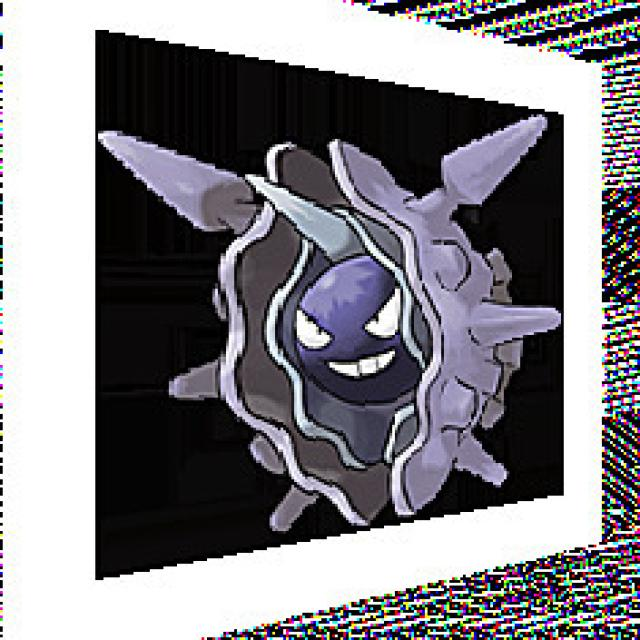Cloyster: (173, 138, 516, 500)
